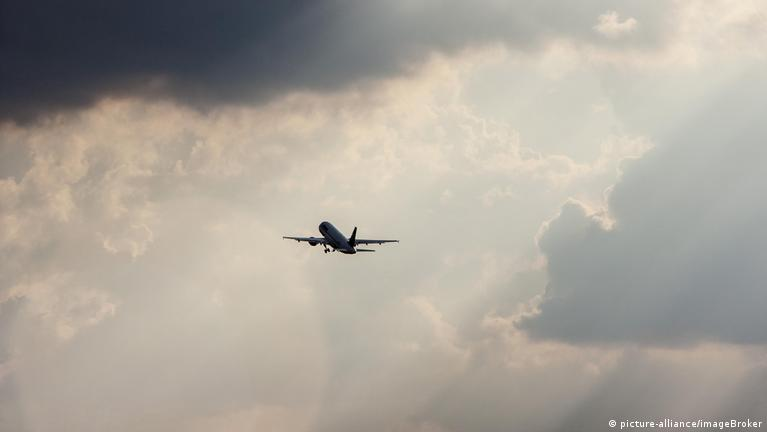aeroplane: (270, 197, 414, 274)
